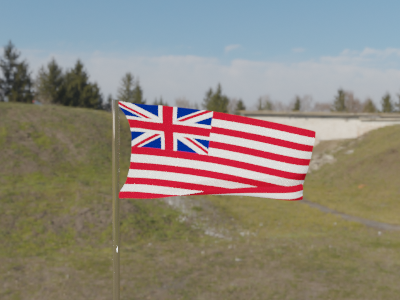Malaysia flag: (118, 102, 316, 205)
